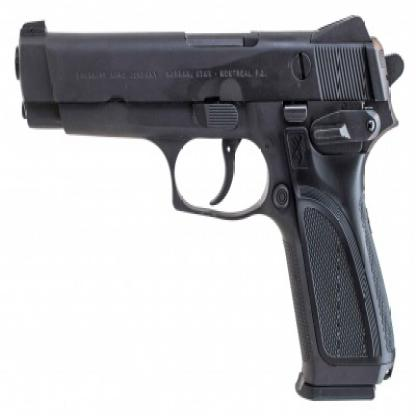Guns: (13, 11, 415, 414)
